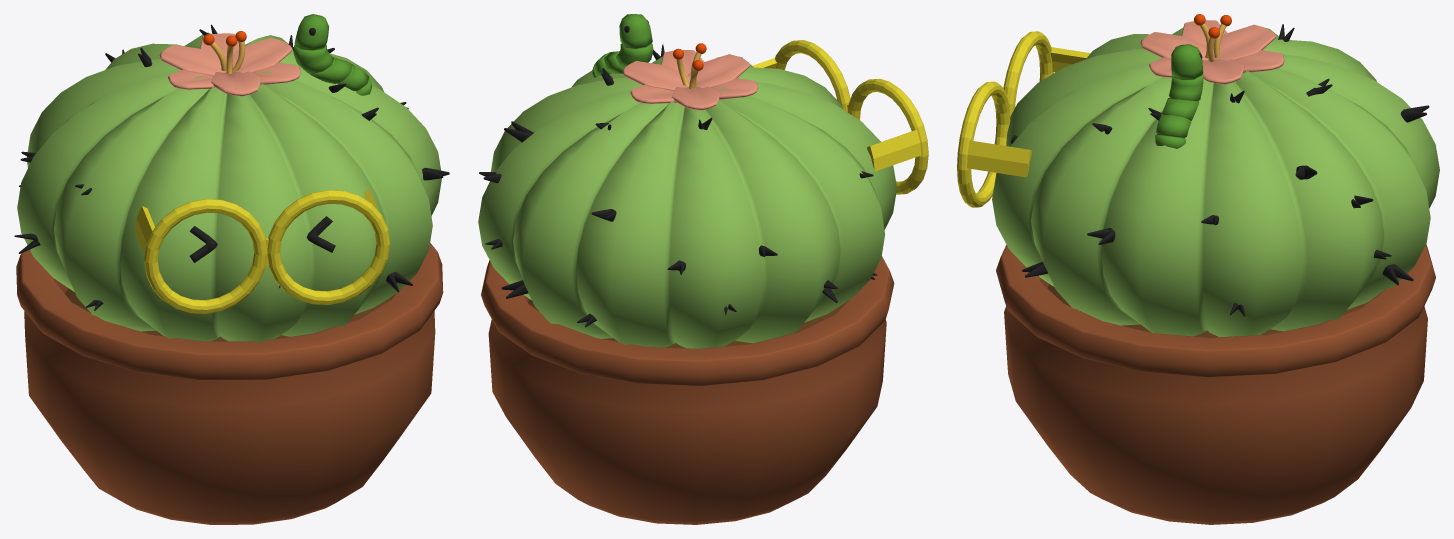
Rendered from Cactus.gltf.
3 views of the same model, side by side, from view 1: azimuth 30°, elevation 25°; view 2: azimuth 150°, elevation 25°; view 3: azimuth 270°, elevation 25° (orthographic). The views are drawn at different scales.
Visible parts, largest first — view 1: Sphere, Cylinder, Torus, Cube.002, Cube.003, Cube, Sphere.001, Cylinder.001; view 2: Sphere, Cylinder, Torus, Cube.002, Cube.003, Sphere.001; view 3: Sphere, Cylinder, Torus, Cube.002, Cube.003, Sphere.001.
Boxes of the visible parts, <box> form: Sphere: <box>17,32,441,342</box>; Cylinder: <box>16,243,443,524</box>; Torus: <box>135,189,389,313</box>; Cube.002: <box>159,33,300,96</box>; Cube.003: <box>293,14,371,95</box>; Cube: <box>189,216,335,262</box>; Sphere.001: <box>203,31,246,73</box>; Cylinder.001: <box>65,288,393,341</box>; Sphere: <box>478,56,896,348</box>; Cylinder: <box>481,256,894,524</box>; Torus: <box>752,40,928,194</box>; Cube.002: <box>622,50,757,110</box>; Cube.003: <box>592,14,653,77</box>; Sphere.001: <box>673,43,706,89</box>; Sphere: <box>992,27,1439,337</box>; Cylinder: <box>996,244,1435,524</box>; Torus: <box>957,31,1090,207</box>; Cube.002: <box>1140,20,1284,84</box>; Cube.003: <box>1155,44,1203,148</box>; Sphere.001: <box>1194,14,1231,61</box>.
Bounding box in the file's own units: 1.73 × 2 × 1.9.
